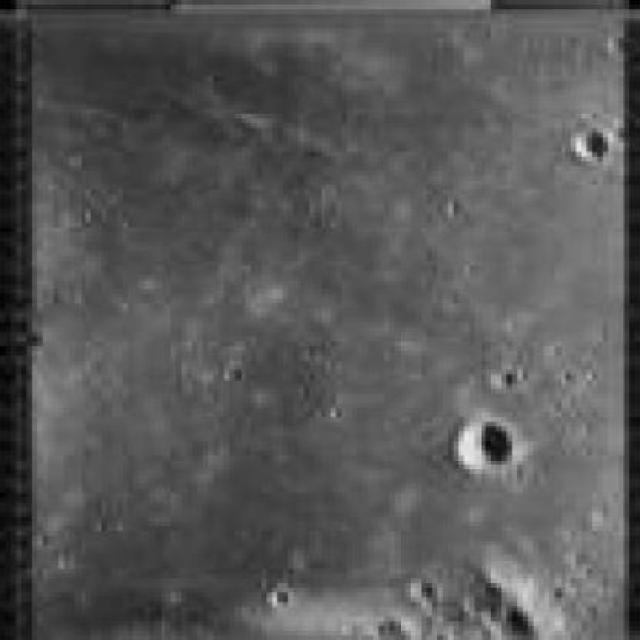crater: (456, 420, 516, 477), (575, 126, 611, 163)
